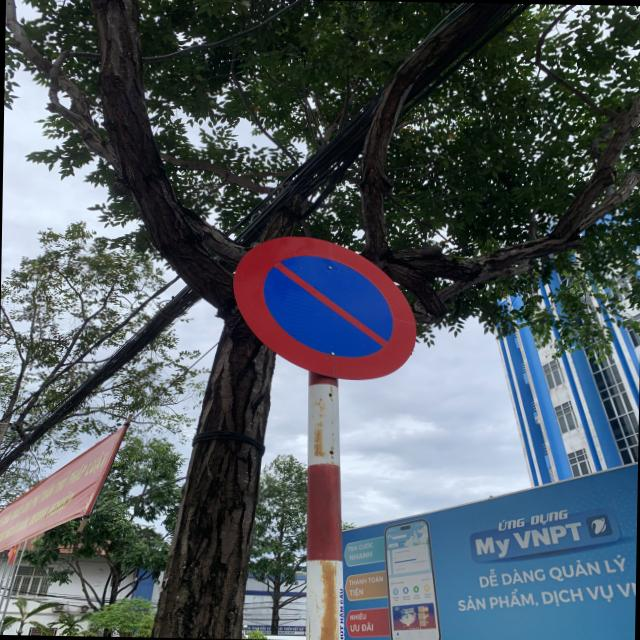Cam_Dau_Xe: (230, 234, 418, 382)
